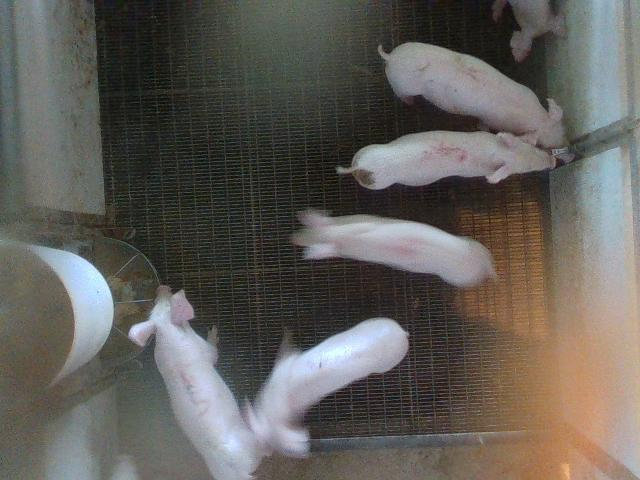pig-3: (129, 286, 262, 479)
pig-4: (291, 210, 496, 288)
pig-5: (129, 286, 262, 479), (336, 132, 555, 189)
